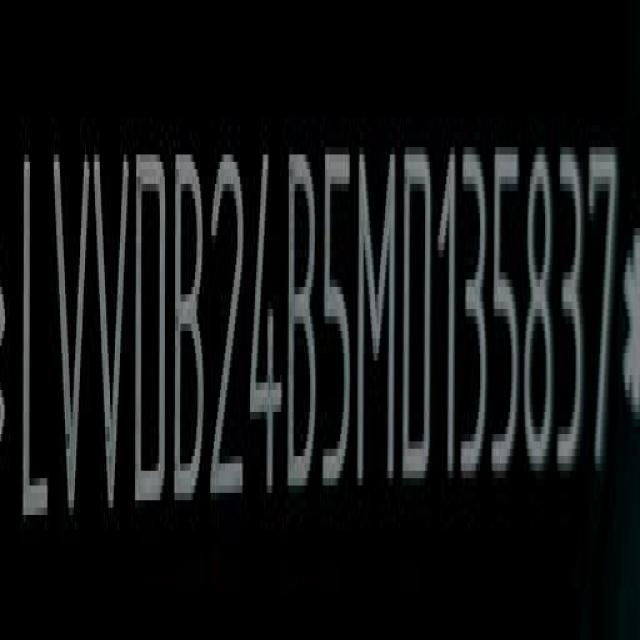1: (438, 139, 457, 482)
2: (209, 152, 249, 520)
3: (556, 142, 587, 482), (461, 131, 489, 488)
4: (248, 147, 283, 496)
5: (322, 133, 355, 496), (489, 139, 523, 480)
7: (589, 150, 620, 493)
8: (524, 150, 552, 460)
B: (172, 147, 207, 512), (286, 147, 318, 504)
D: (400, 133, 435, 507), (132, 155, 166, 526)
L: (15, 150, 50, 539)
M: (357, 144, 396, 498)
V: (93, 152, 132, 528), (52, 152, 91, 520)
